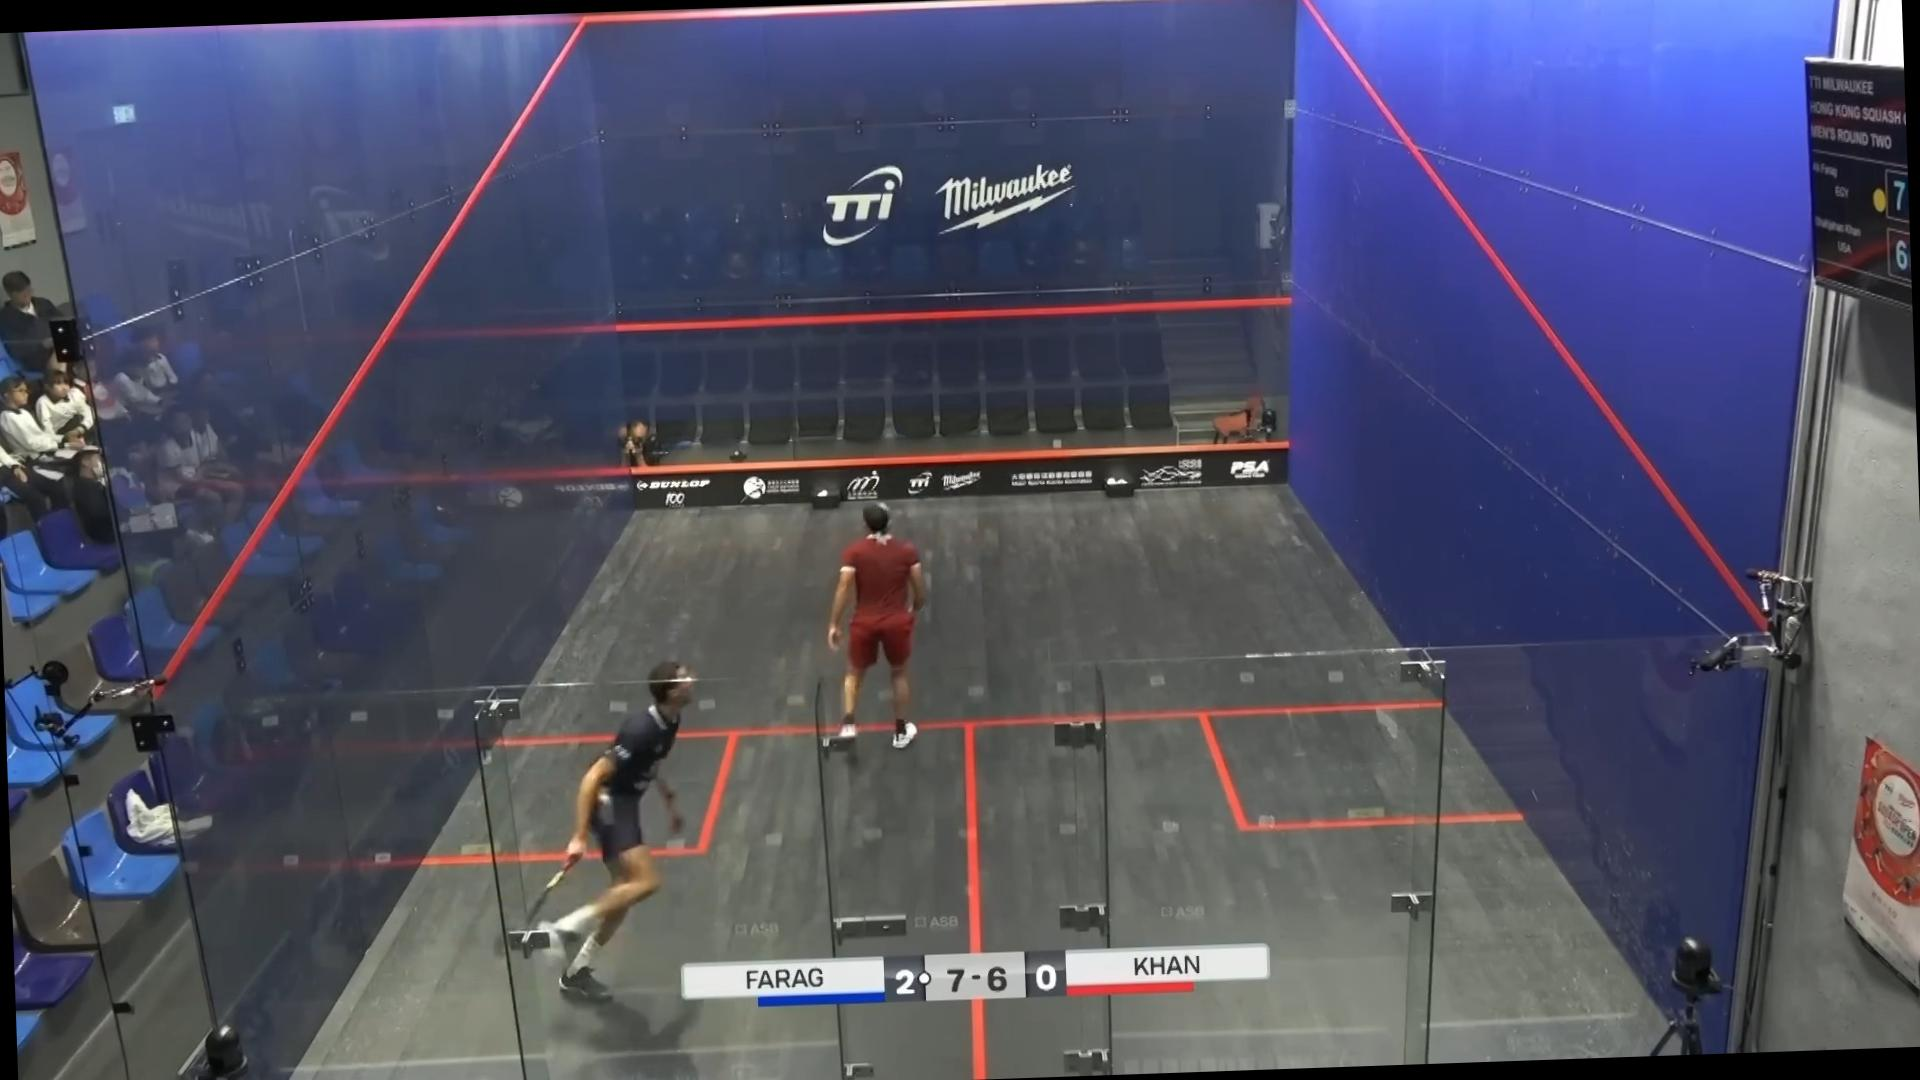Racket: (488, 861, 579, 960)
